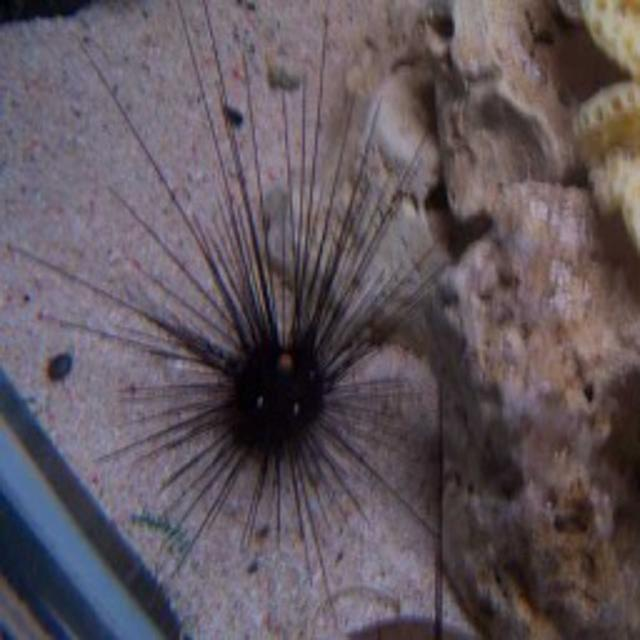Urchin: (35, 1, 437, 595)
